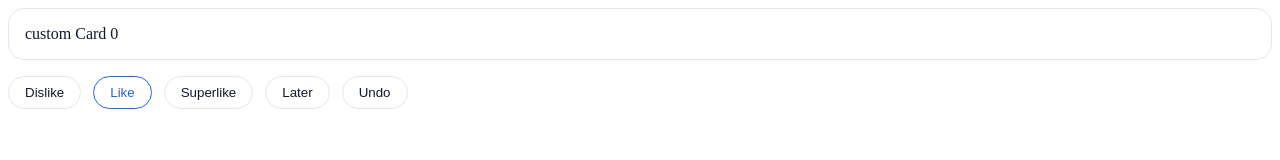
SwipeDeck › renders a custom template and an exhausted state
The image size is (1280, 160).
Expected: the text "custom Card 0" is shown, [25, 25, 118, 42]
Click the button "Like" at {"x": 123, "y": 92}, box [93, 76, 152, 109]
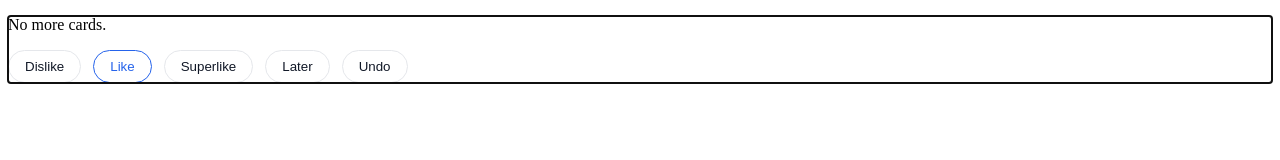
Expected: the text "No more cards." is shown, [8, 16, 106, 33]
